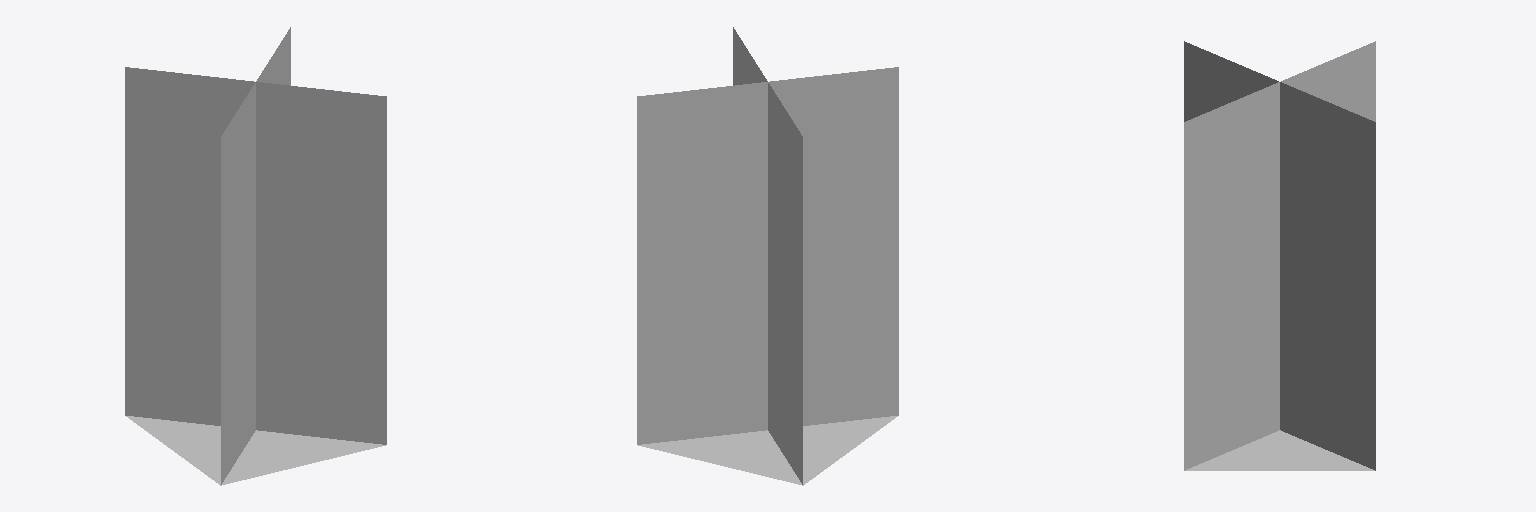
Rendered from tree_4.obj.
The picture shows the model from 3 angles: view 1: azimuth 30°, elevation 25°; view 2: azimuth 150°, elevation 25°; view 3: azimuth 270°, elevation 25°; orthographic projection.
Parts seen in each view (by area): view 1: Default; view 2: Default; view 3: Default.
Boxes of the visible parts, box(x1,y1,x2,y2) form: Default: box(125, 27, 386, 485); Default: box(637, 27, 898, 485); Default: box(1184, 41, 1375, 470).
Size of the model in its own units: 1 by 2 by 1.